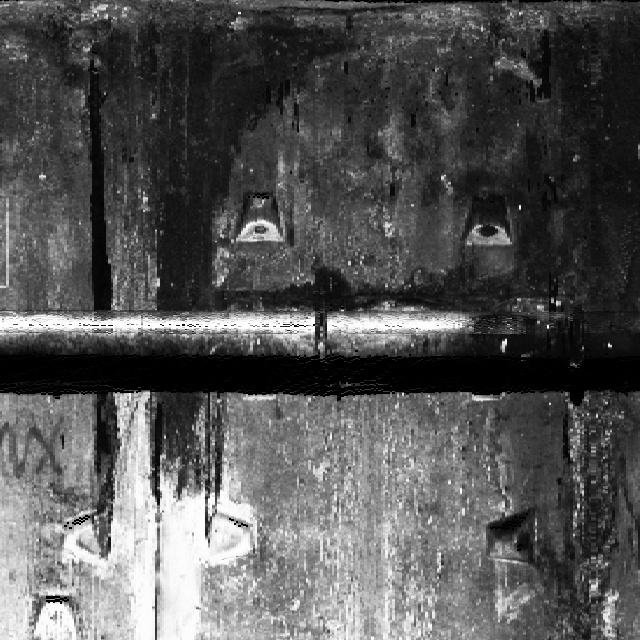leakage: (130, 19, 354, 310), (476, 384, 638, 639), (133, 380, 243, 533), (73, 48, 122, 311), (80, 387, 120, 565)
